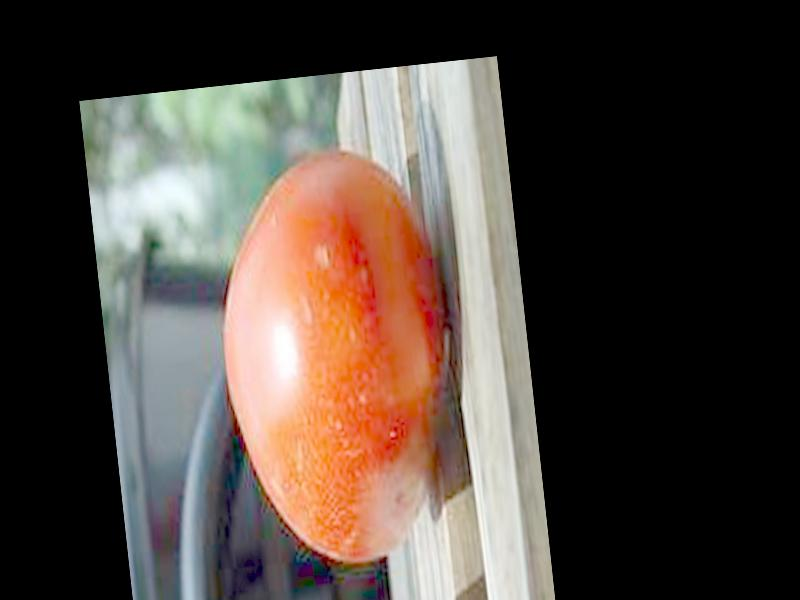Tomato: (202, 139, 464, 573)
